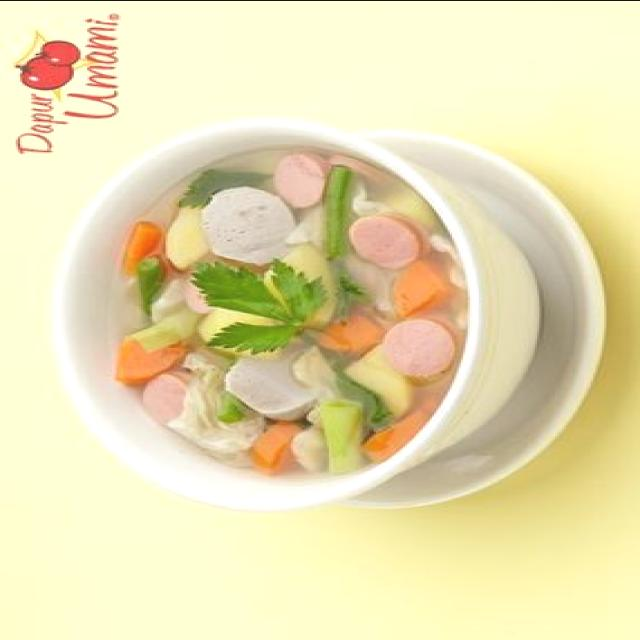sop: (114, 146, 477, 478)
